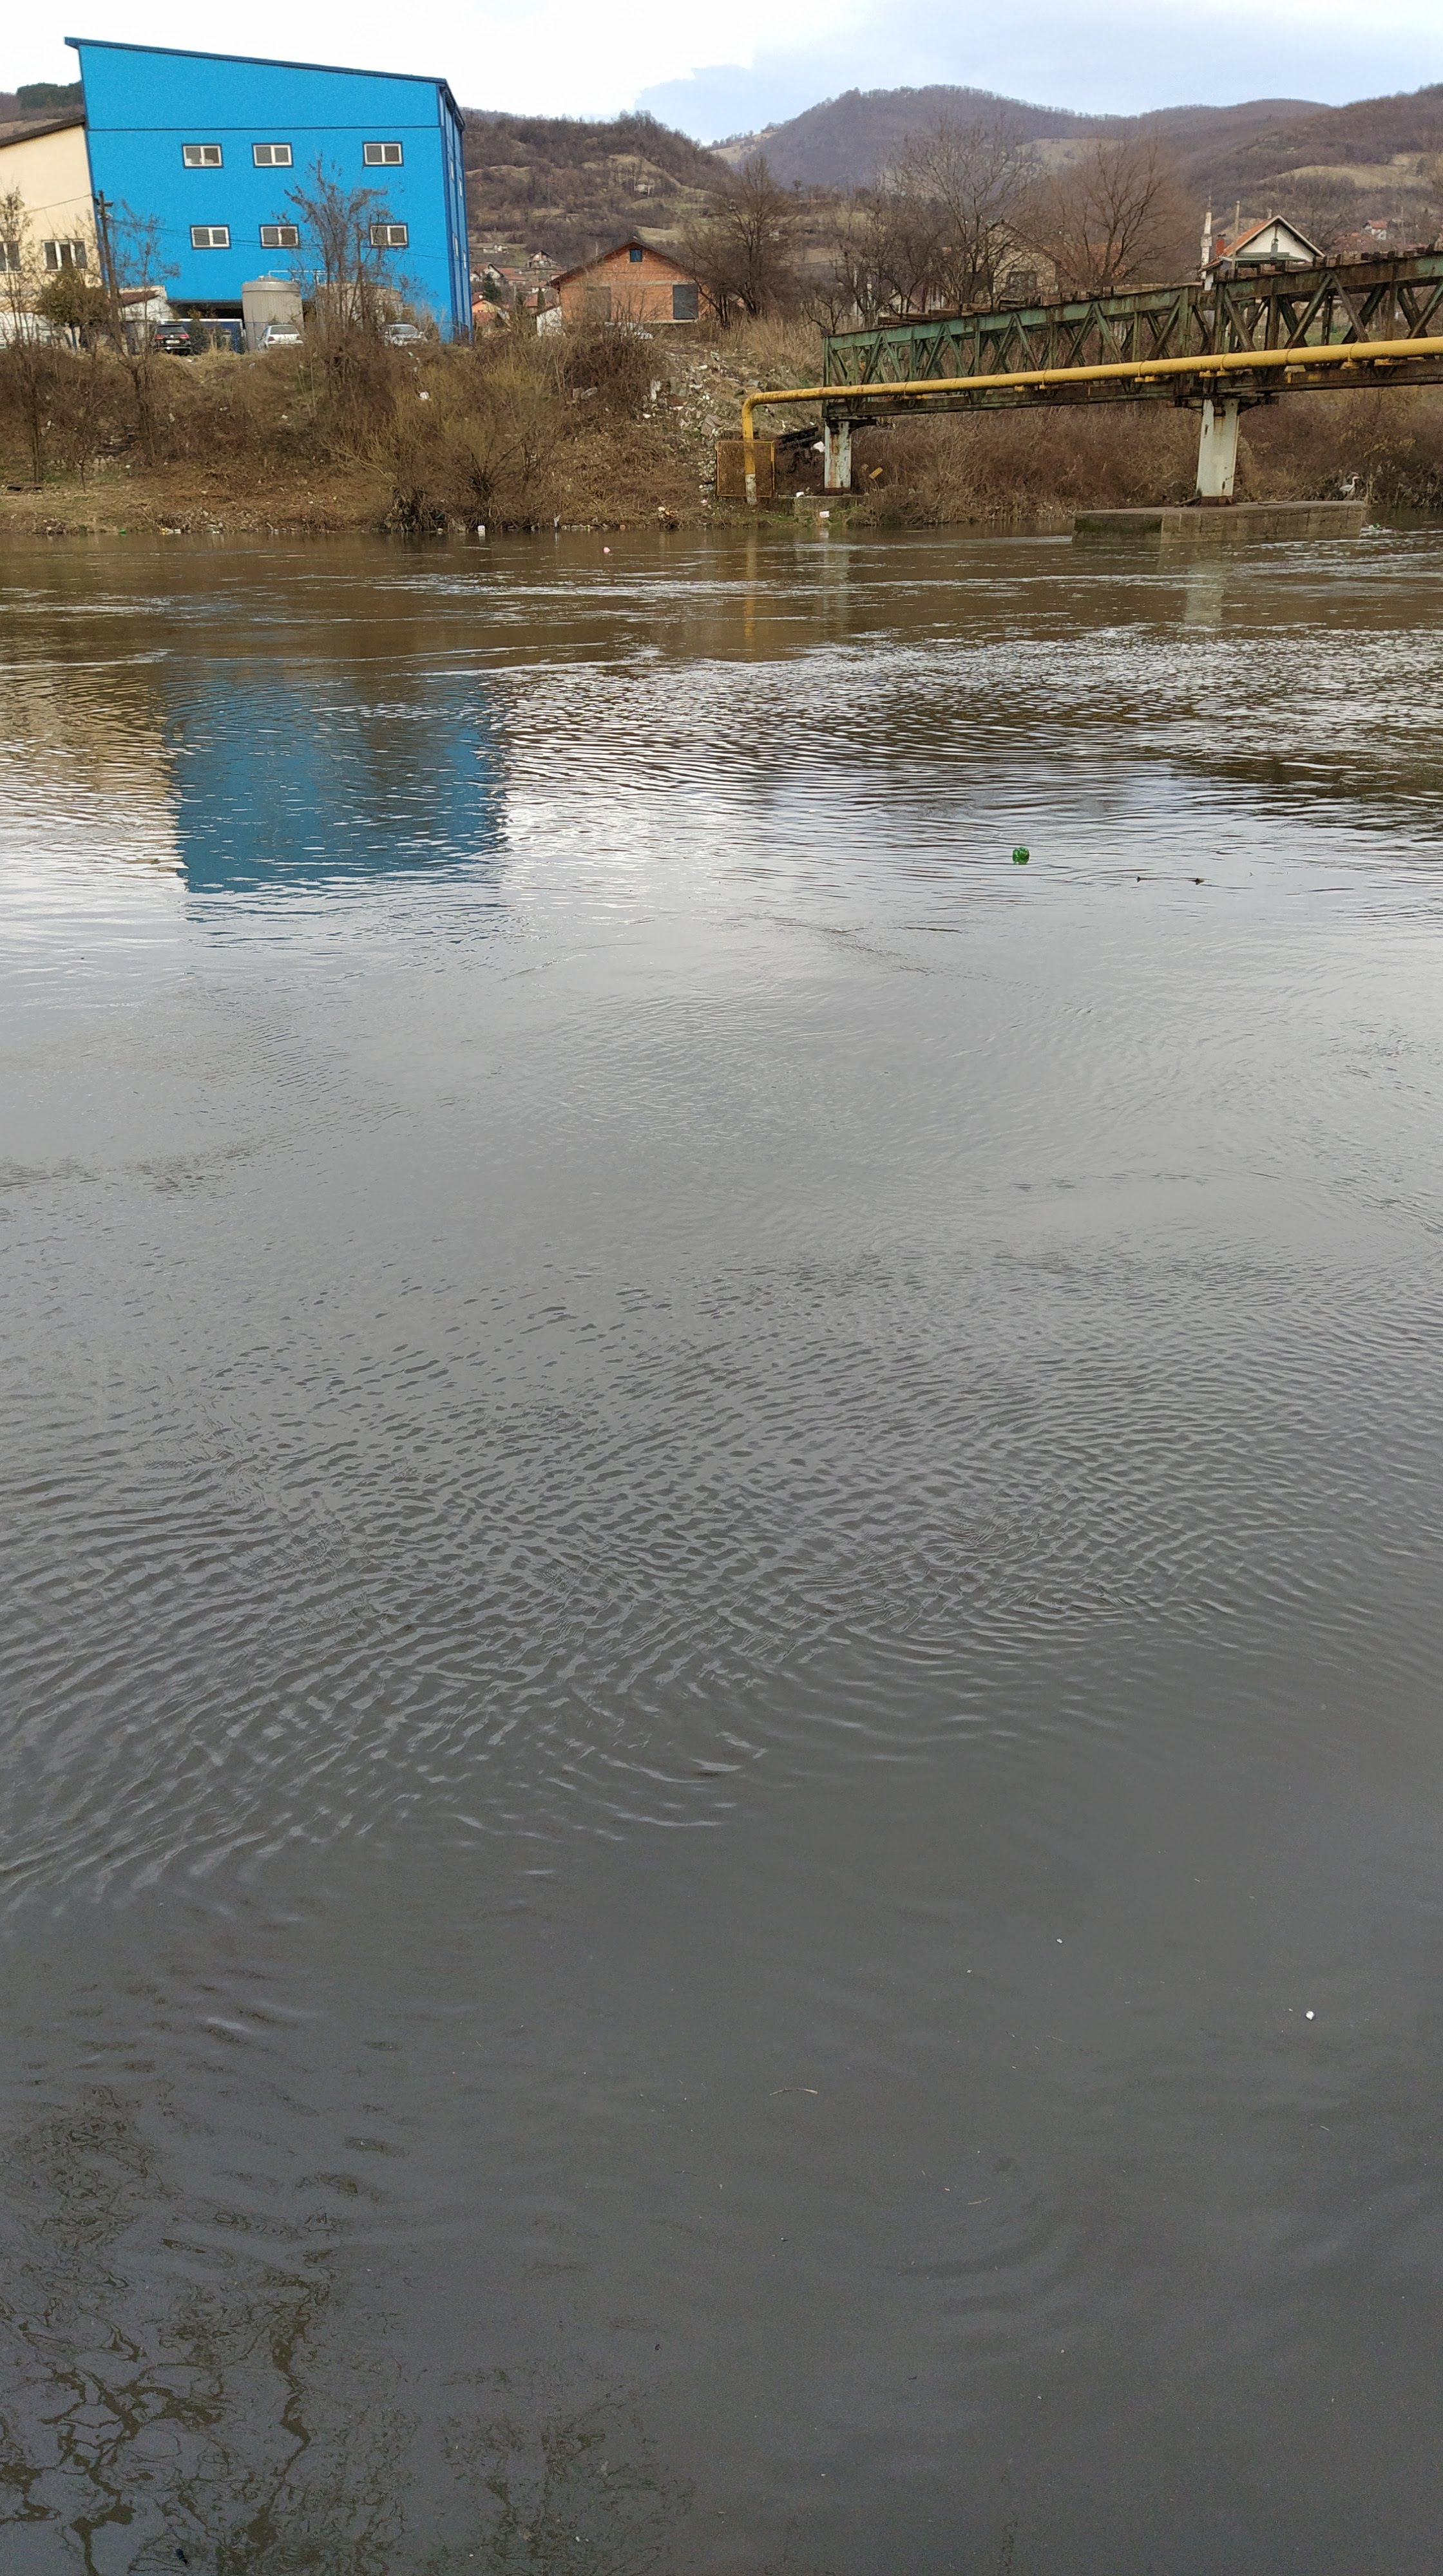Plastic Bottle: (1013, 846, 1029, 860), (119, 529, 127, 534), (1367, 524, 1379, 527), (604, 547, 607, 552), (175, 529, 179, 533)
